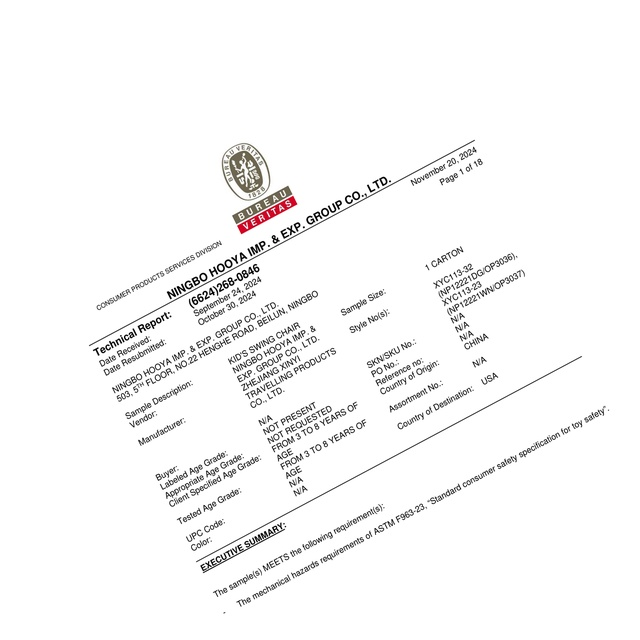bureau_veritas: (222, 142, 297, 234)
